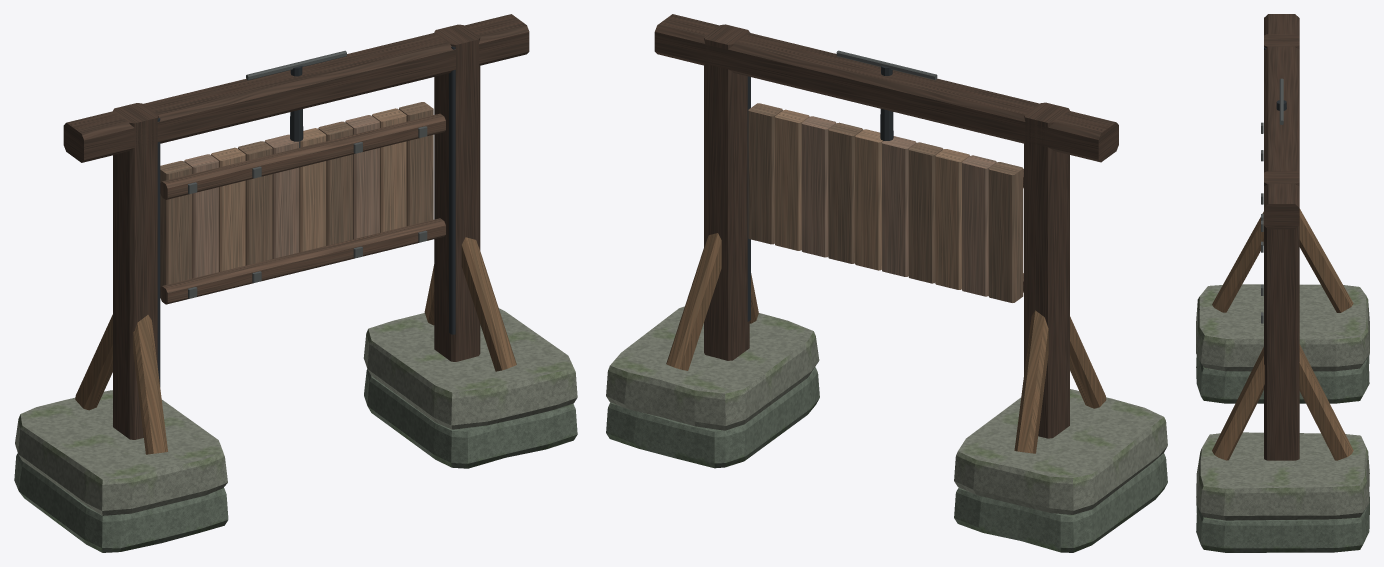
File: sluice.glb
3 renders of one model, left to right at view 1: azimuth 30°, elevation 25°; view 2: azimuth 150°, elevation 25°; view 3: azimuth 270°, elevation 25°, orthographic. The views are drawn at different scales.
Parts seen in each view (by area): view 1: Watergate frame, raised grooved leaf and winch, Granite wing walls and stream notch, Gate guide rails, tie bands and lead screw; view 2: Watergate frame, raised grooved leaf and winch, Granite wing walls and stream notch, Gate guide rails, tie bands and lead screw; view 3: Granite wing walls and stream notch, Watergate frame, raised grooved leaf and winch, Gate guide rails, tie bands and lead screw.
Boxes of the visible parts, left/top/right/bottom form: Watergate frame, raised grooved leaf and winch: left=63, top=14, right=529, bottom=454; Granite wing walls and stream notch: left=14, top=308, right=577, bottom=552; Gate guide rails, tie bands and lead screw: left=157, top=46, right=455, bottom=386; Watergate frame, raised grooved leaf and winch: left=654, top=14, right=1118, bottom=453; Granite wing walls and stream notch: left=606, top=306, right=1167, bottom=552; Gate guide rails, tie bands and lead screw: left=747, top=32, right=937, bottom=321; Granite wing walls and stream notch: left=1196, top=284, right=1369, bottom=552; Watergate frame, raised grooved leaf and winch: left=1212, top=14, right=1353, bottom=460; Gate guide rails, tie bands and lead screw: left=1261, top=47, right=1286, bottom=323.
Size of the model in its own units: 3.84 by 3.03 by 1.36.
Materials: 3 (2 with a texture image).
